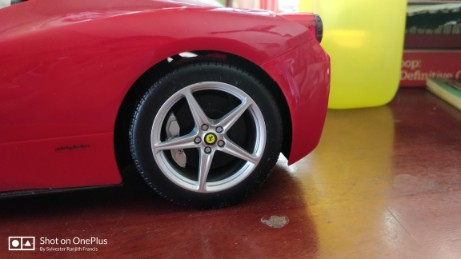aligned_wheel: (116, 55, 288, 216)
